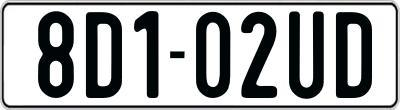0: (195, 9, 231, 101)
1: (133, 10, 159, 102)
2: (241, 10, 283, 100)
8: (38, 10, 76, 98)
D: (334, 9, 374, 101), (86, 12, 122, 101)
U: (288, 10, 326, 103)
